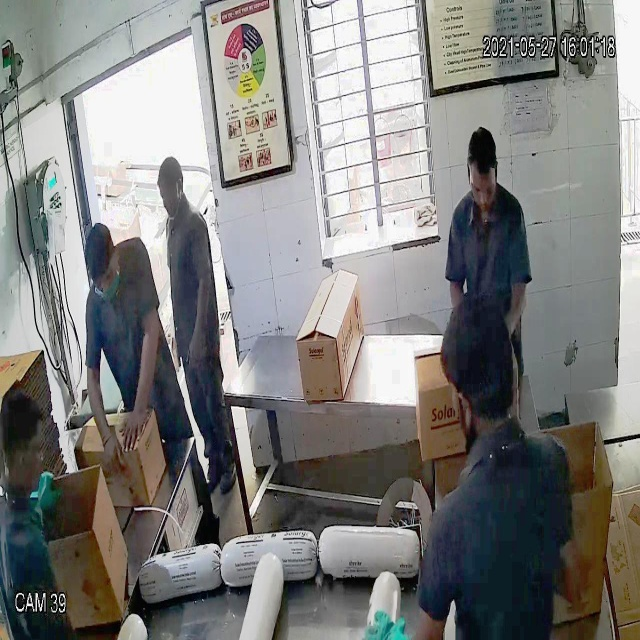Sin_gafas: (466, 172, 502, 204)
